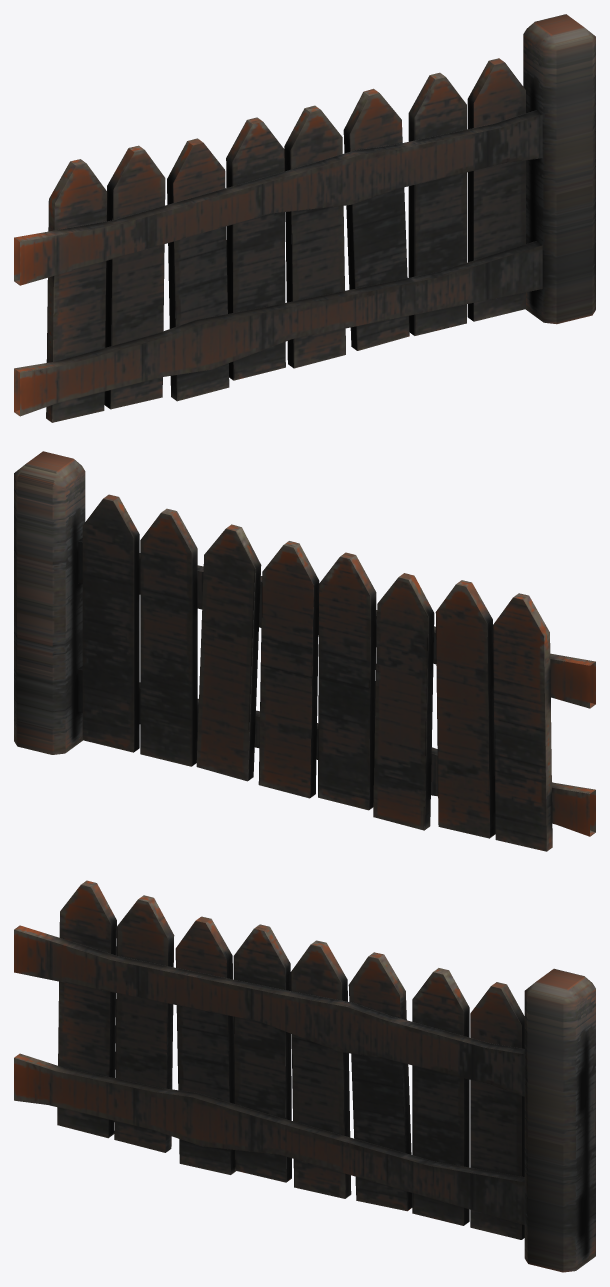
The model's file is fence2.obj.
3 renders of one model, top to bottom at view 1: azimuth 30°, elevation 25°; view 2: azimuth 150°, elevation 25°; view 3: azimuth 330°, elevation 25°, orthographic. The views are drawn at different scales.
Parts seen in each view (by area): view 1: Woodenfence; view 2: Woodenfence; view 3: Woodenfence.
Part boxes in pixels (x1=…): Woodenfence: x1=14, y1=14, x2=595, y2=422; Woodenfence: x1=14, y1=451, x2=595, y2=851; Woodenfence: x1=14, y1=880, x2=595, y2=1272.
Bounding box in the file's own units: 3.22 × 1.52 × 0.293.
Materials: 1 (1 with a texture image).
